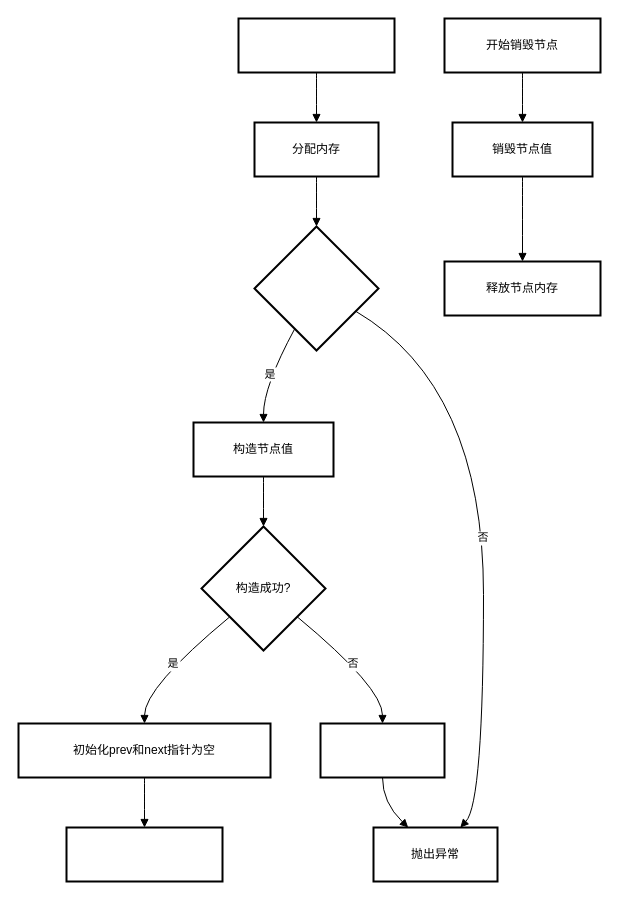
This 618x899 diagram has some shape labels left out. Here are the shapes that lost their labels. From the top down, the box of each, then its label:
(237, 17, 395, 73): 开始创建节点
(253, 225, 379, 351): 分配成功?
(319, 722, 445, 778): 释放内存
(65, 826, 223, 882): 返回节点指针
